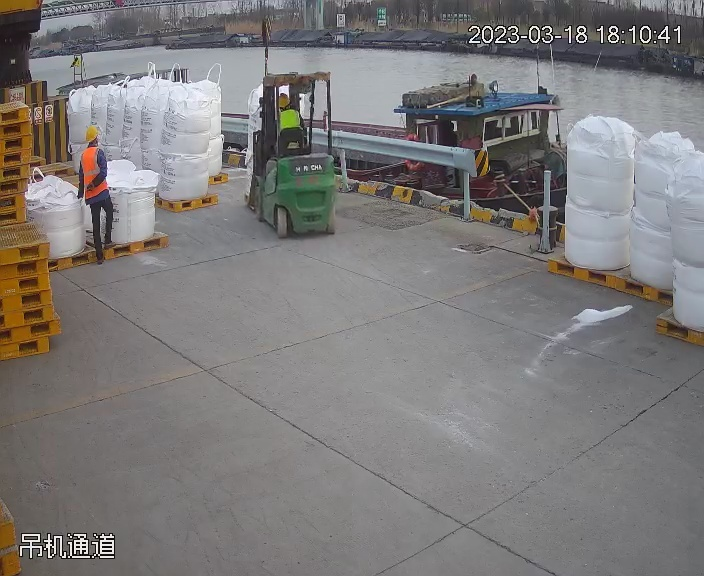head: (78, 122, 108, 167), (273, 92, 303, 127)
helmet: (83, 123, 100, 141), (276, 92, 290, 108)
people: (73, 119, 118, 263)
